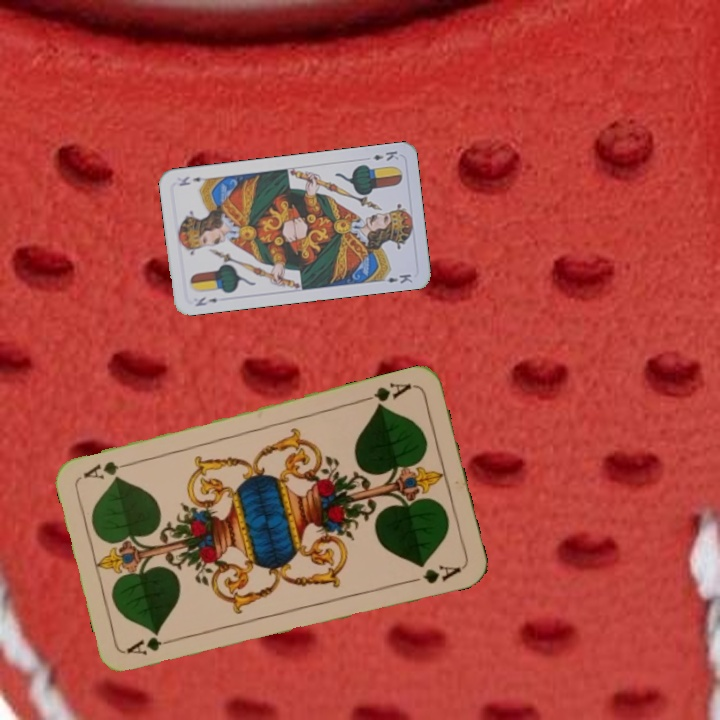EK: (369, 147, 401, 163), (191, 293, 220, 309)
GA: (358, 379, 414, 411), (123, 631, 181, 658)
